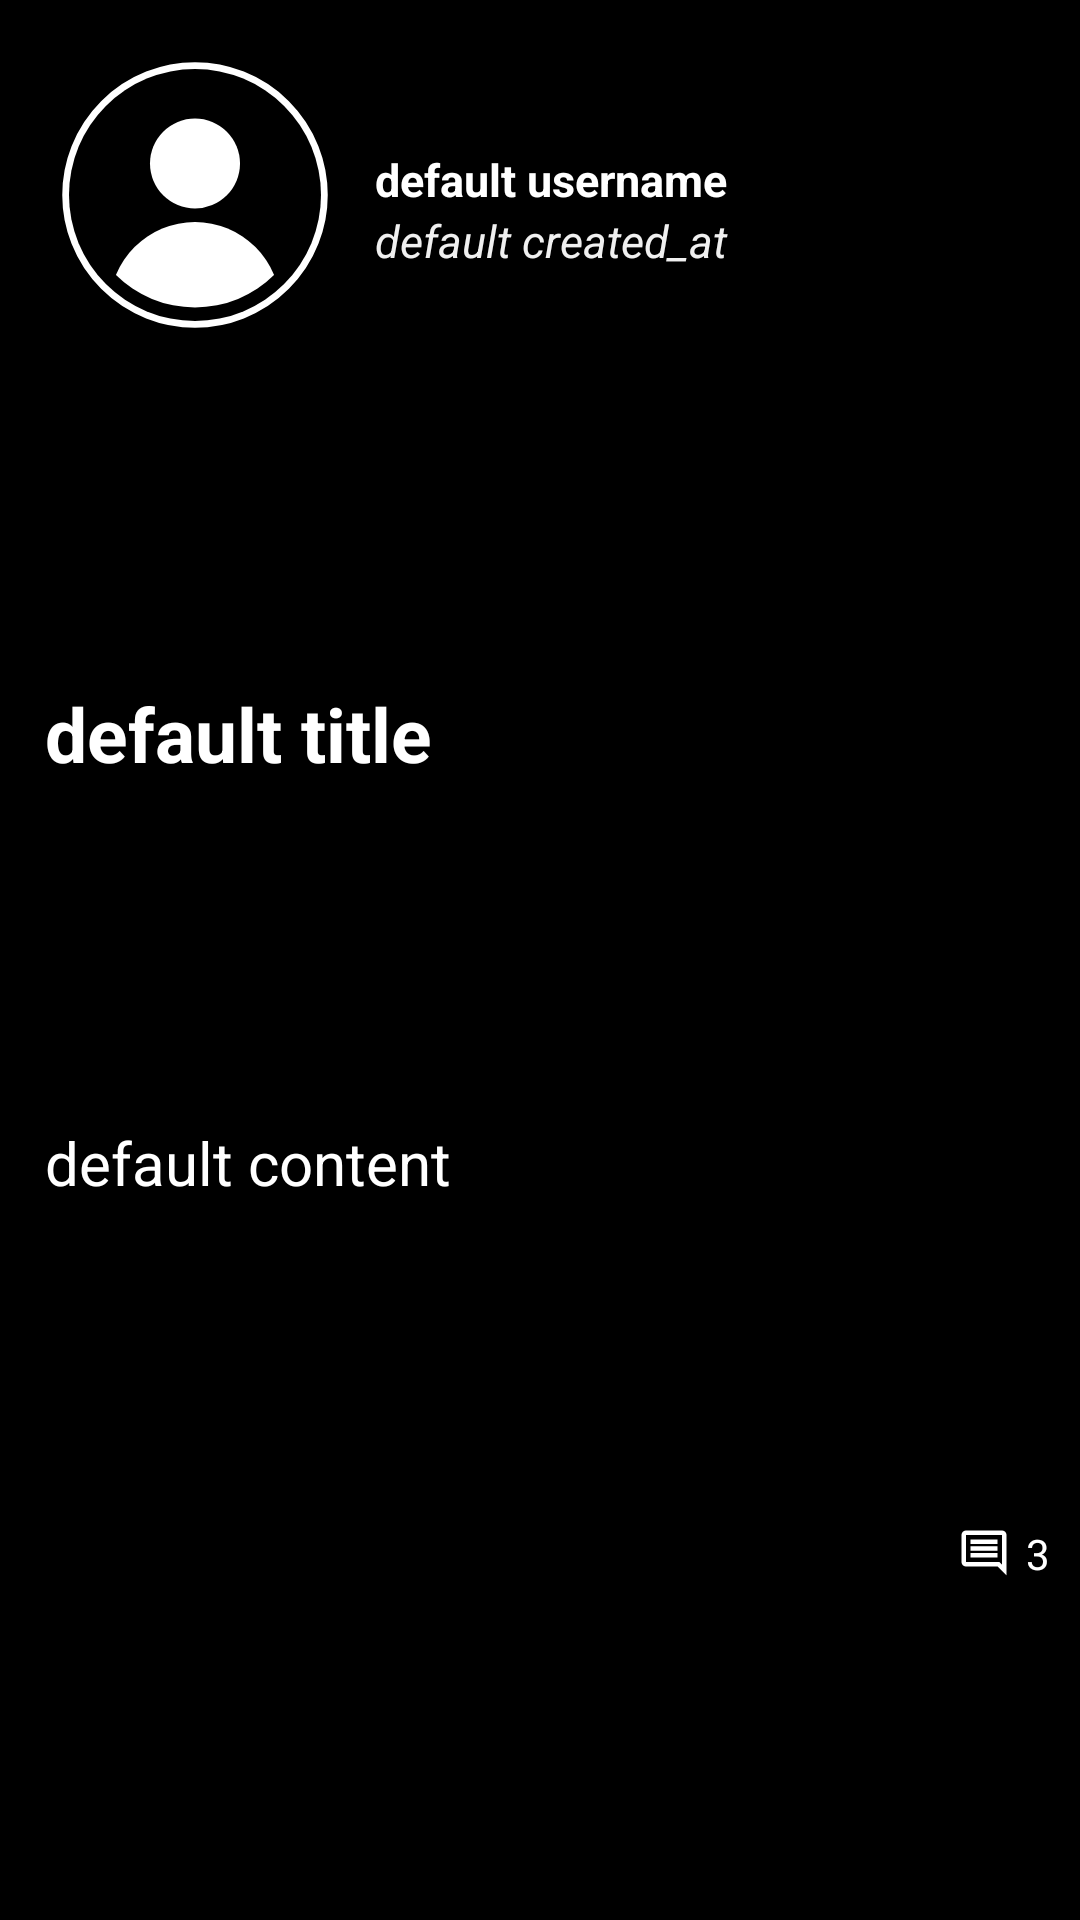

Icons on this 1080x1920 Android screen, each with the point to tap as (x,y):
profile: (195,195)
